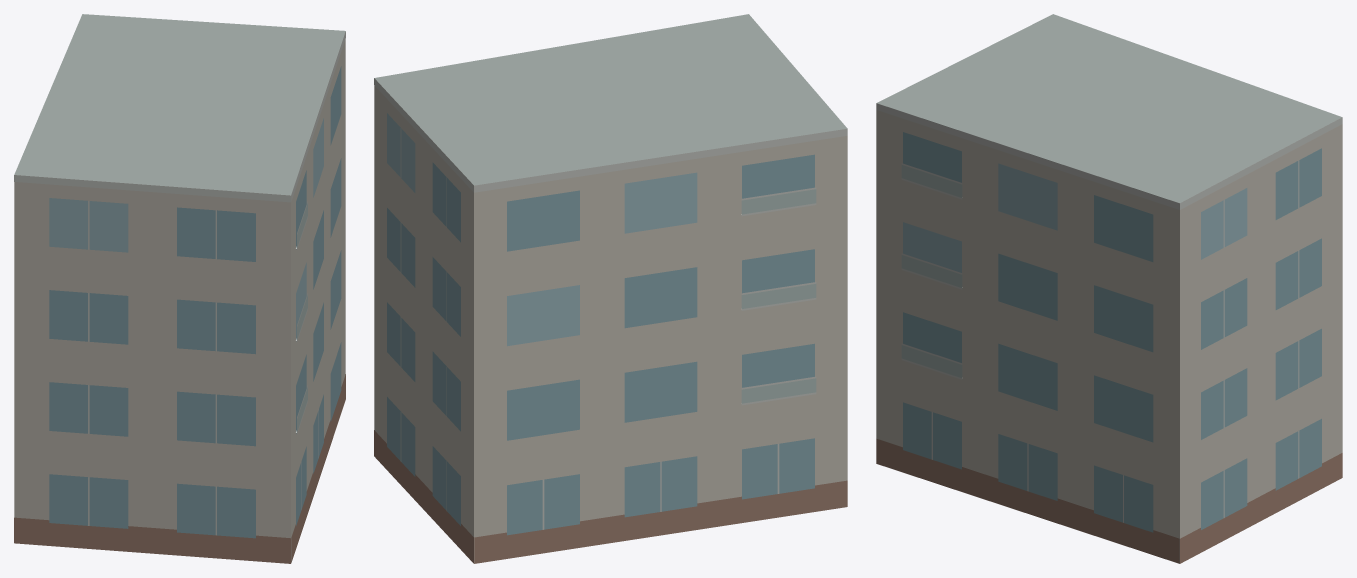
Rendered from survey-upis-32525290.glb.
3 renders of one model, left to right at view 1: azimuth 30°, elevation 25°; view 2: azimuth 150°, elevation 25°; view 3: azimuth 270°, elevation 25°, orthographic. The views are drawn at different scales.
Parts seen in each view (by area): view 1: survey-upis-32525290.tmp; view 2: survey-upis-32525290.tmp; view 3: survey-upis-32525290.tmp.
Boxes of the visible parts, box(x1,y1,x2,y2) form: survey-upis-32525290.tmp: box(14, 14, 345, 563); survey-upis-32525290.tmp: box(374, 14, 847, 563); survey-upis-32525290.tmp: box(876, 14, 1342, 563).
Size of the model in its own units: 14.65 by 13 by 15.24.
